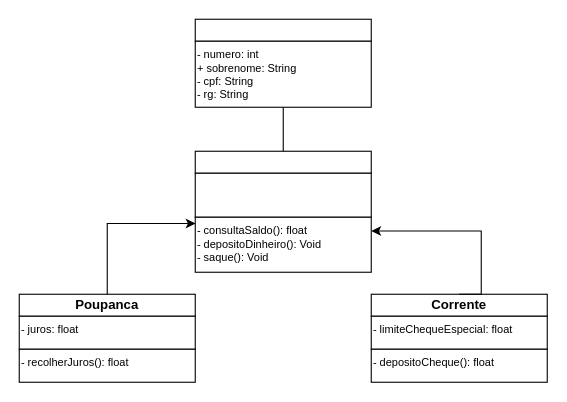
This 567x402 diagram has some shape labels left out. Each missing label, with the centre of its shape:
+ cliente: int - saldo: float: [282,194]
Cliente: [282,29]
Conta: [282,161]
